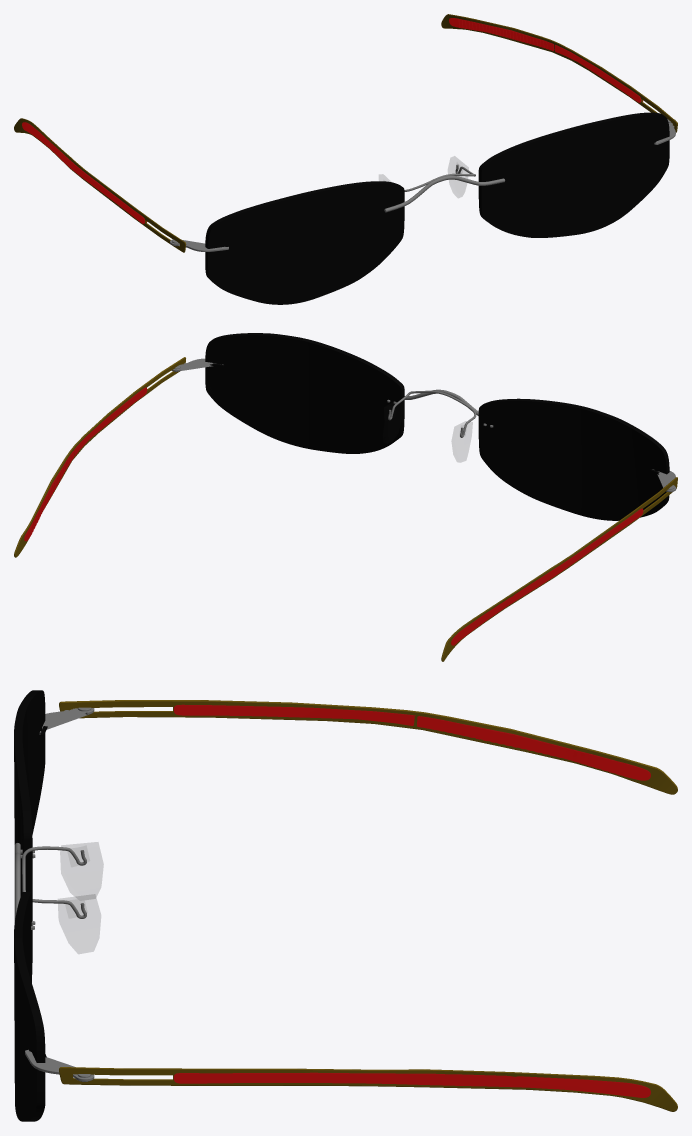
3 renders of one model, top to bottom at view 1: azimuth 30°, elevation 25°; view 2: azimuth 150°, elevation 25°; view 3: azimuth 270°, elevation 25°, orthographic. The views are drawn at different scales.
Parts seen in each view (by area): view 1: 镜片_3_2, 镜片_3, 镜腿_3, 胶皮, 镜腿_3_2, 胶皮_2, 鼻梁; view 2: 镜片_3, 镜片_3_2, 镜腿_3_2, 胶皮_2, 镜腿_3, 胶皮, 立方体_2, 立方体; view 3: 镜腿_3_2, 镜腿_3, 胶皮_2, 胶皮, 镜片_3, 镜片_3_2, 立方体_2, 立方体, 鼻梁后面.
Boxes of the visible parts, x1=… form: 镜片_3_2: x1=205, y1=181, x2=404, y2=304; 镜片_3: x1=478, y1=112, x2=669, y2=237; 镜腿_3: x1=441, y1=14, x2=677, y2=132; 胶皮: x1=449, y1=18, x2=643, y2=102; 镜腿_3_2: x1=14, y1=118, x2=186, y2=252; 胶皮_2: x1=22, y1=122, x2=147, y2=223; 鼻梁: x1=386, y1=175, x2=504, y2=211; 镜片_3: x1=205, y1=333, x2=404, y2=453; 镜片_3_2: x1=478, y1=398, x2=669, y2=520; 镜腿_3_2: x1=441, y1=477, x2=677, y2=661; 胶皮_2: x1=451, y1=508, x2=643, y2=645; 镜腿_3: x1=14, y1=357, x2=185, y2=557; 胶皮: x1=24, y1=387, x2=147, y2=541; 立方体_2: x1=452, y1=421, x2=472, y2=461; 立方体: x1=383, y1=402, x2=401, y2=442; 镜腿_3_2: x1=59, y1=700, x2=677, y2=794; 镜腿_3: x1=59, y1=1067, x2=677, y2=1111; 胶皮_2: x1=173, y1=704, x2=650, y2=780; 胶皮: x1=173, y1=1072, x2=650, y2=1097; 镜片_3: x1=14, y1=892, x2=45, y2=1121; 镜片_3_2: x1=14, y1=690, x2=45, y2=896; 立方体_2: x1=60, y1=842, x2=103, y2=899; 立方体: x1=58, y1=894, x2=100, y2=953; 鼻梁后面: x1=22, y1=846, x2=86, y2=918.
Bounding box in the file's own units: 208 × 42.12 × 156.
